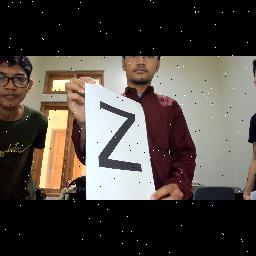z: (92, 96, 162, 188)
